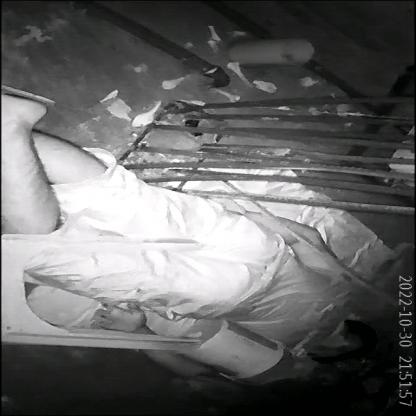hand: (89, 300, 204, 368)
